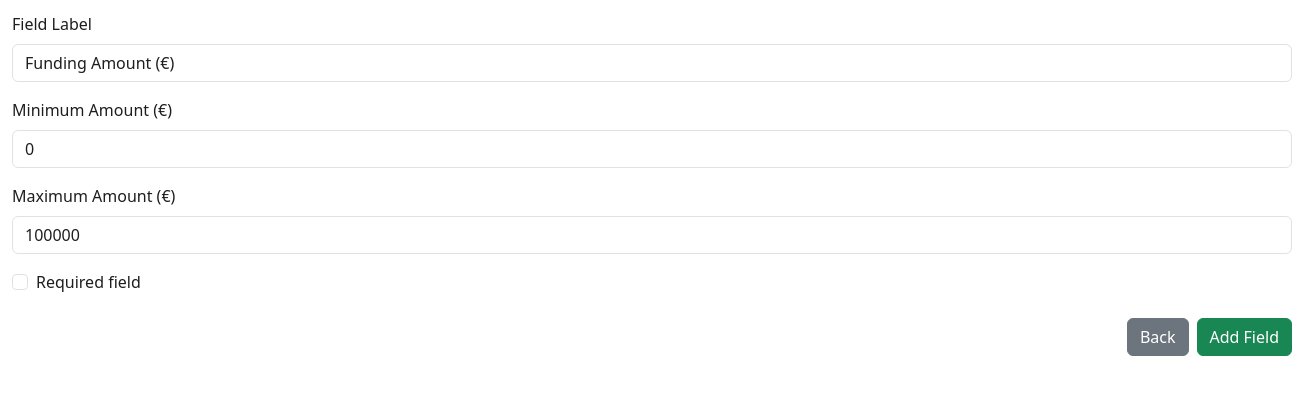
CurrencyFieldConfigurator › validation error shown when max value is less than min value
Replace the text in the number field named "min" below "Minimum Amount (€)" with "500" at (652, 149), box [12, 130, 1292, 168]
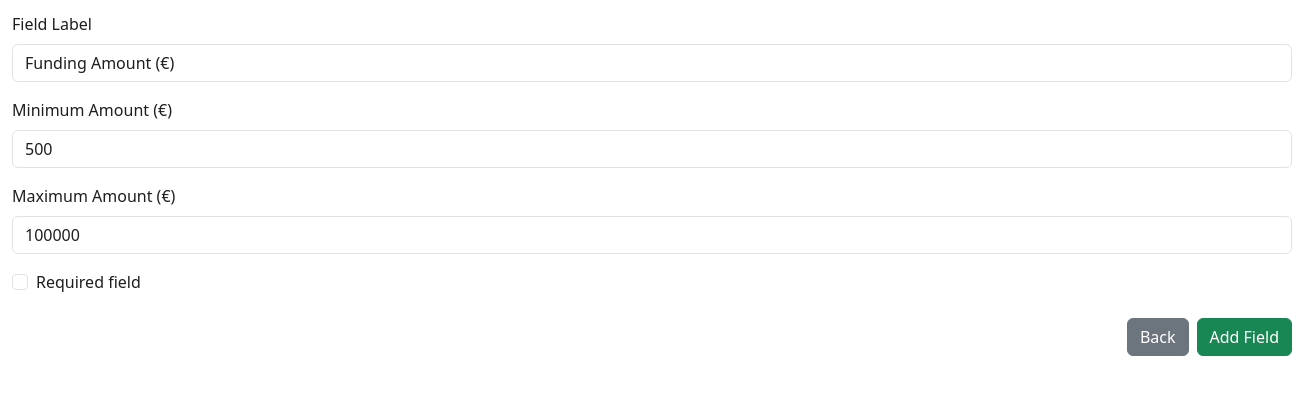
Replace the text in the number field named "max" below "Maximum Amount (€)" with "100" at (652, 235), box [12, 216, 1292, 254]
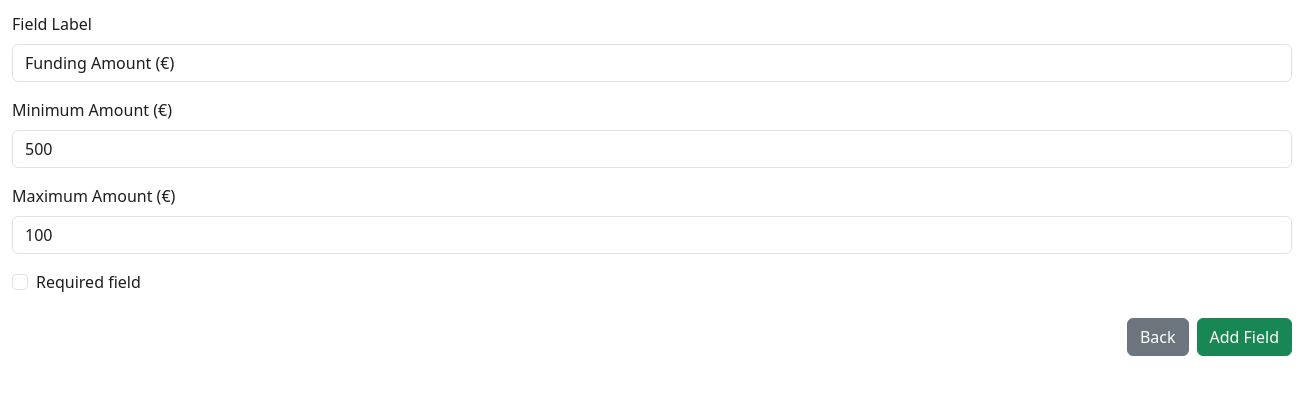
Click the button "Add Field" at (1244, 337), box [1196, 318, 1292, 356]
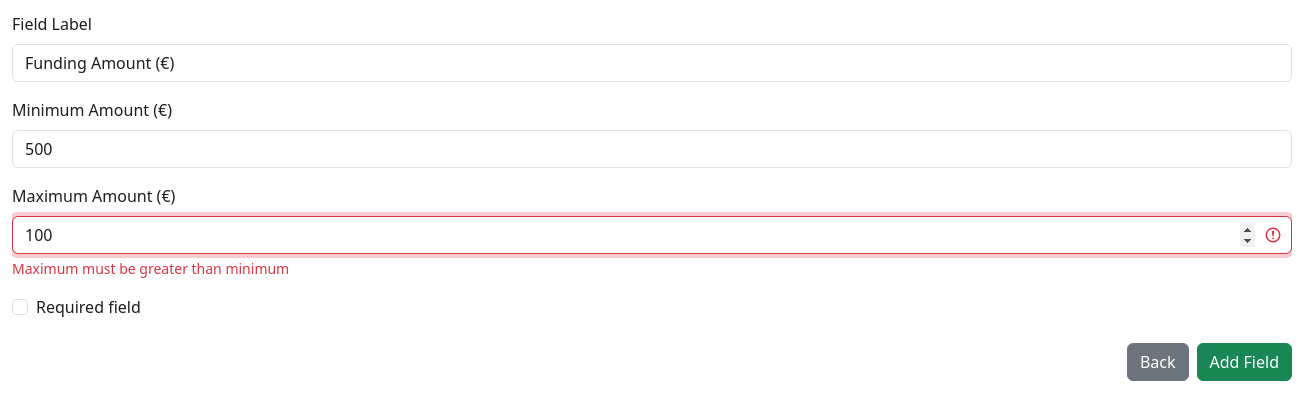
Result: the text "Maximum must be greater than minimum" is shown at [12, 259, 289, 278]
